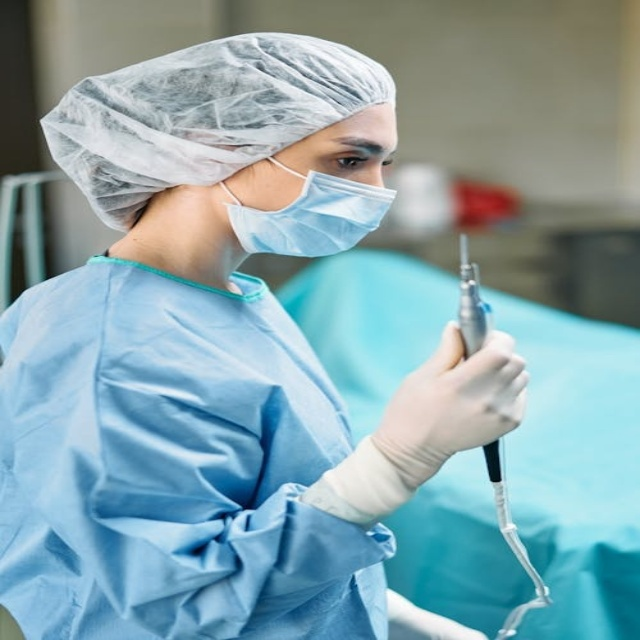Guantes: (306, 321, 528, 527), (384, 588, 497, 640)
Mascara: (218, 152, 396, 258)
Sin_gafas: (333, 155, 370, 170), (381, 158, 394, 167)
